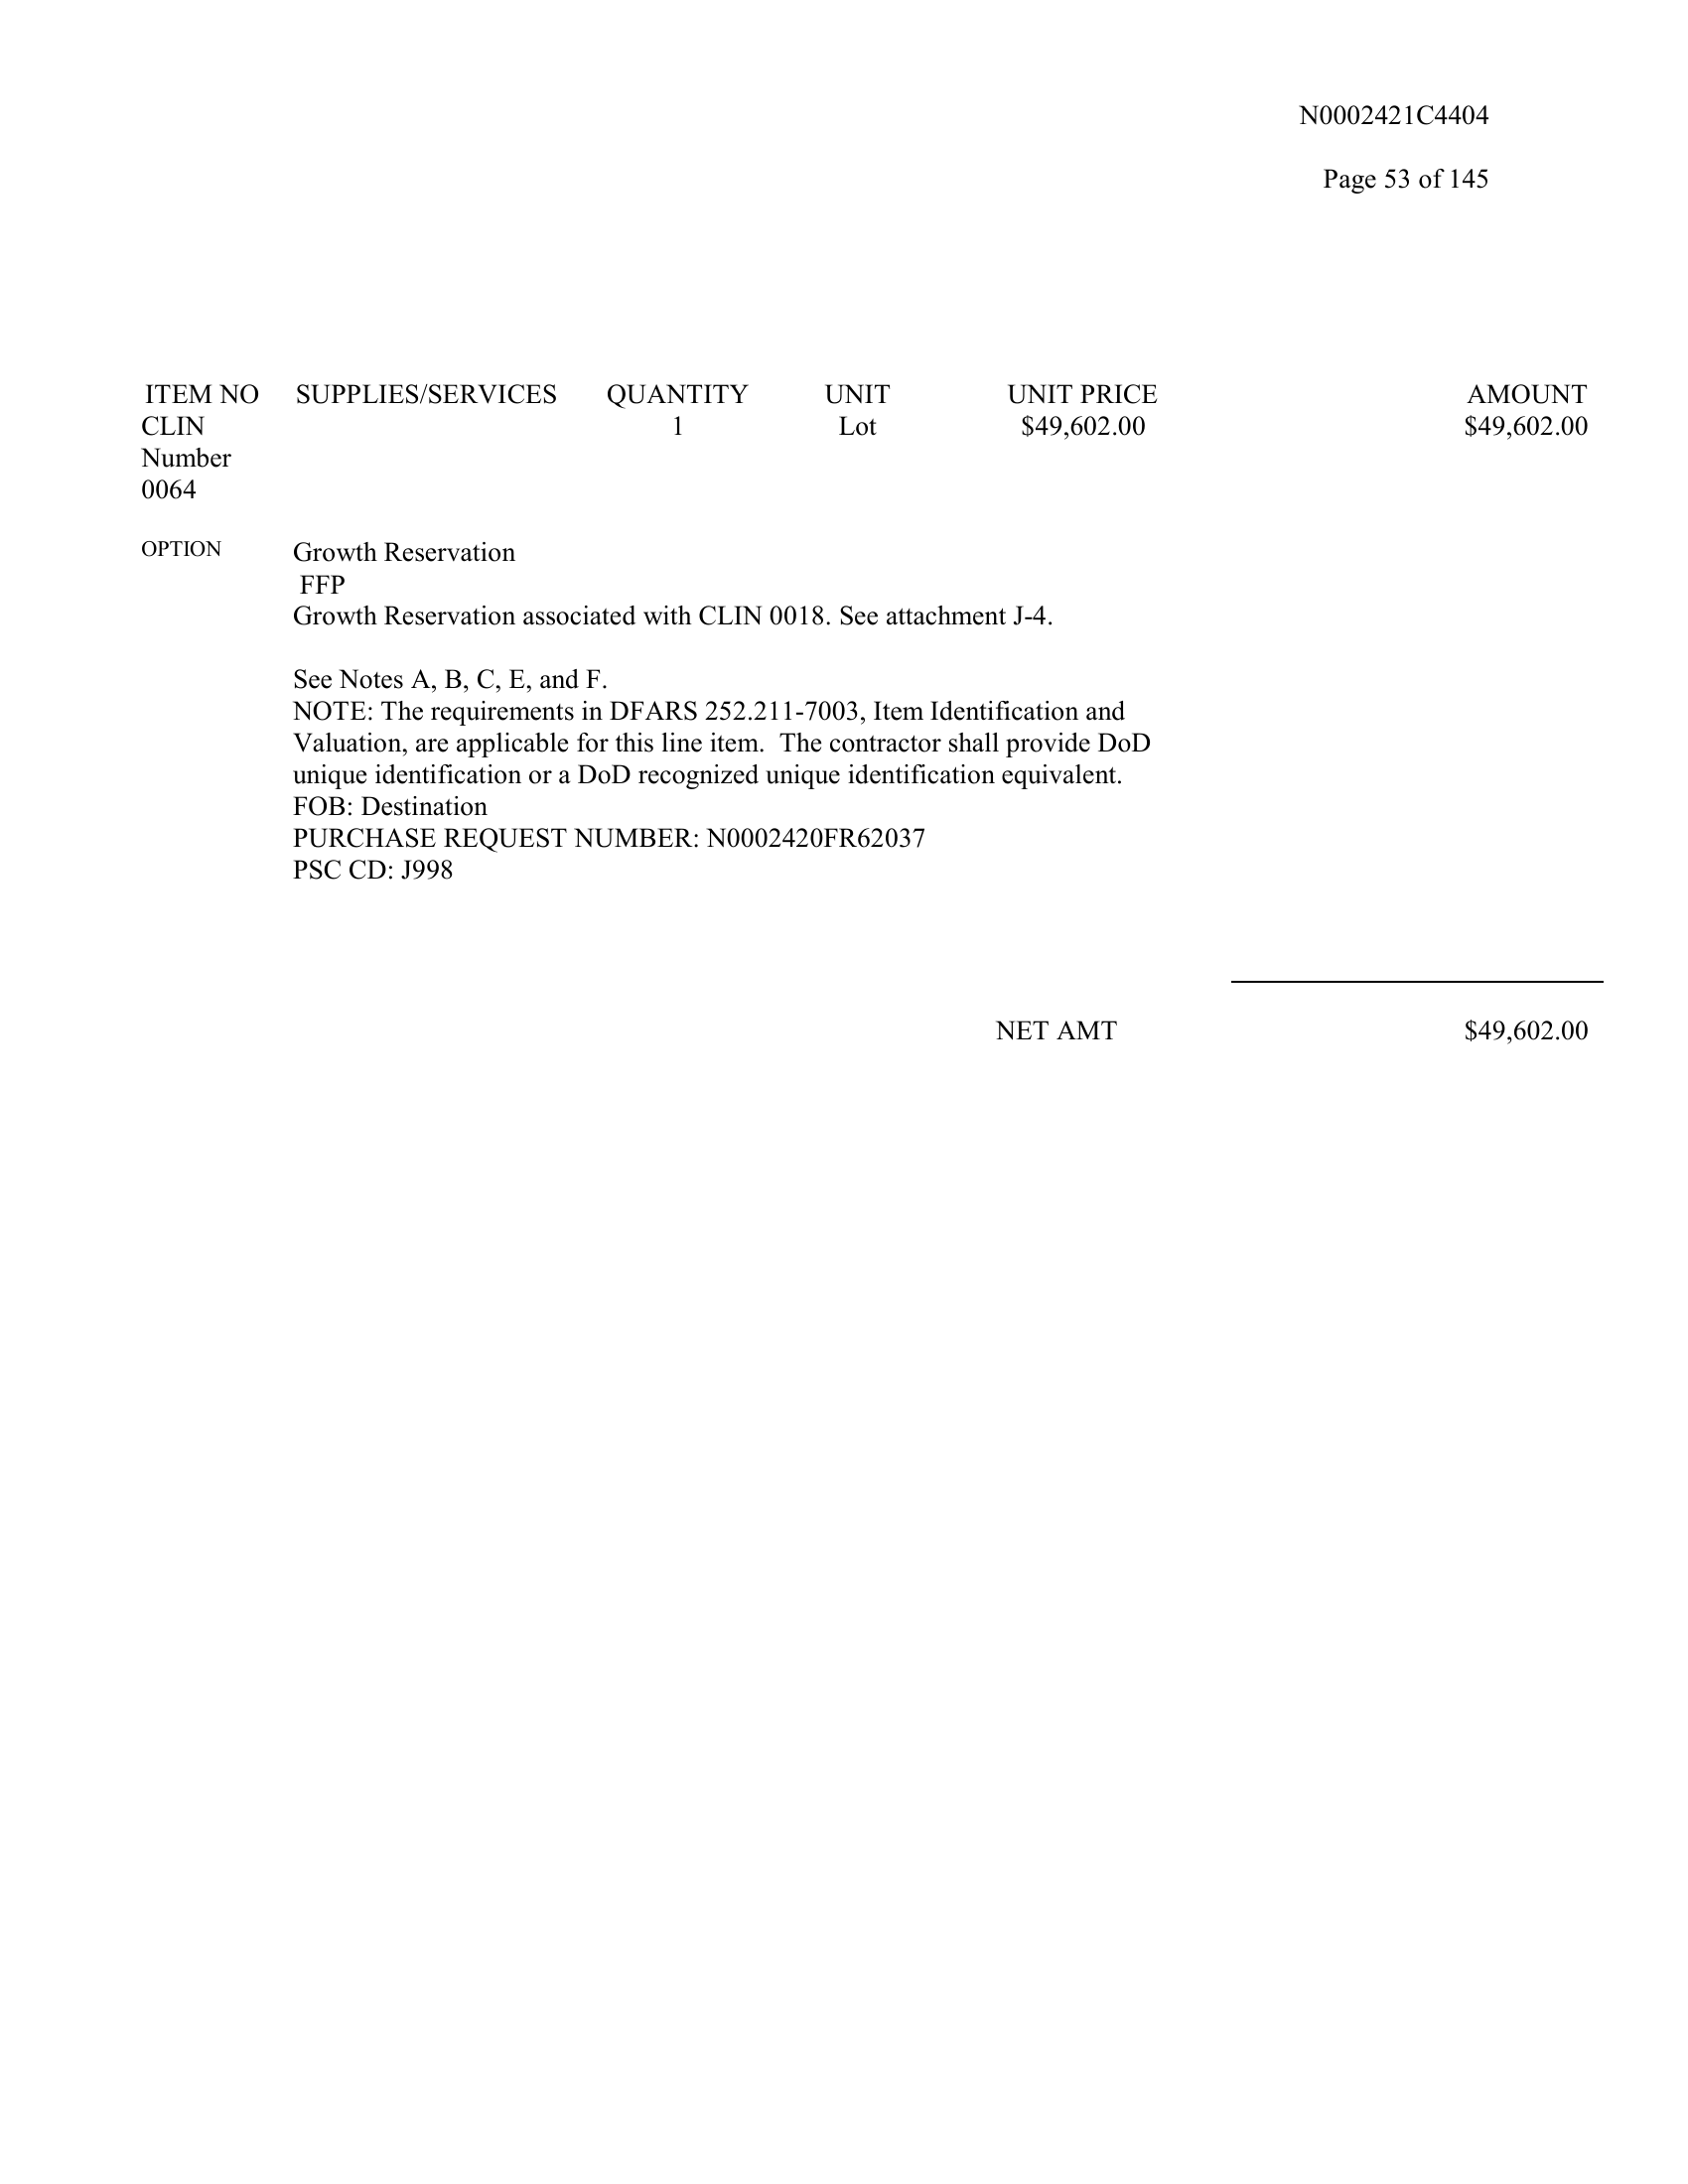table: (135, 372, 1601, 1057)
table column: (1218, 370, 1603, 1058), (287, 374, 594, 1055), (988, 372, 1218, 1055), (598, 374, 809, 1055), (809, 372, 988, 1055), (135, 374, 285, 1057)
table column header: (129, 370, 1603, 408)
table row: (131, 409, 1603, 892)
